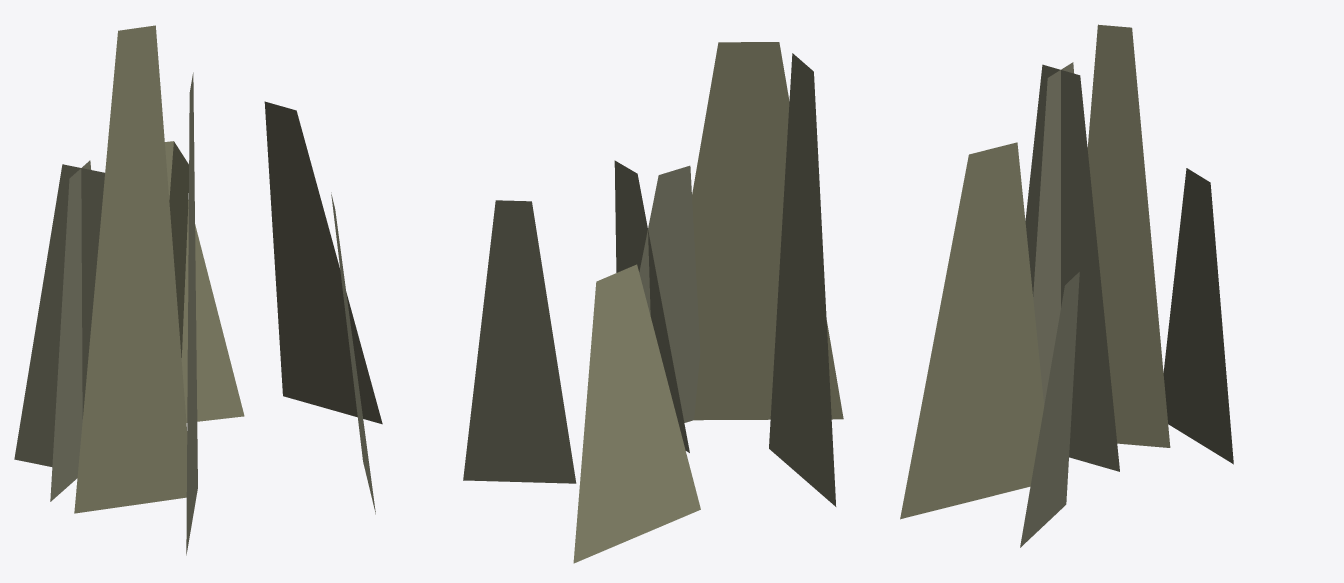
The model's file is cao.yangmao@subadult__winter.glb.
3 renders of one model, left to right at view 1: azimuth 30°, elevation 25°; view 2: azimuth 150°, elevation 25°; view 3: azimuth 270°, elevation 25°, orthographic. The views are drawn at different scales.
Parts seen in each view (by area): view 1: cao.yangmao@subadult__winter; view 2: cao.yangmao@subadult__winter; view 3: cao.yangmao@subadult__winter.
Part boxes in pixels (<box>): cao.yangmao@subadult__winter: <box>14,25,382,555</box>; cao.yangmao@subadult__winter: <box>463,42,843,563</box>; cao.yangmao@subadult__winter: <box>900,24,1233,547</box>.
Size of the model in its own units: 0.2395 by 0.3124 by 0.2887.
